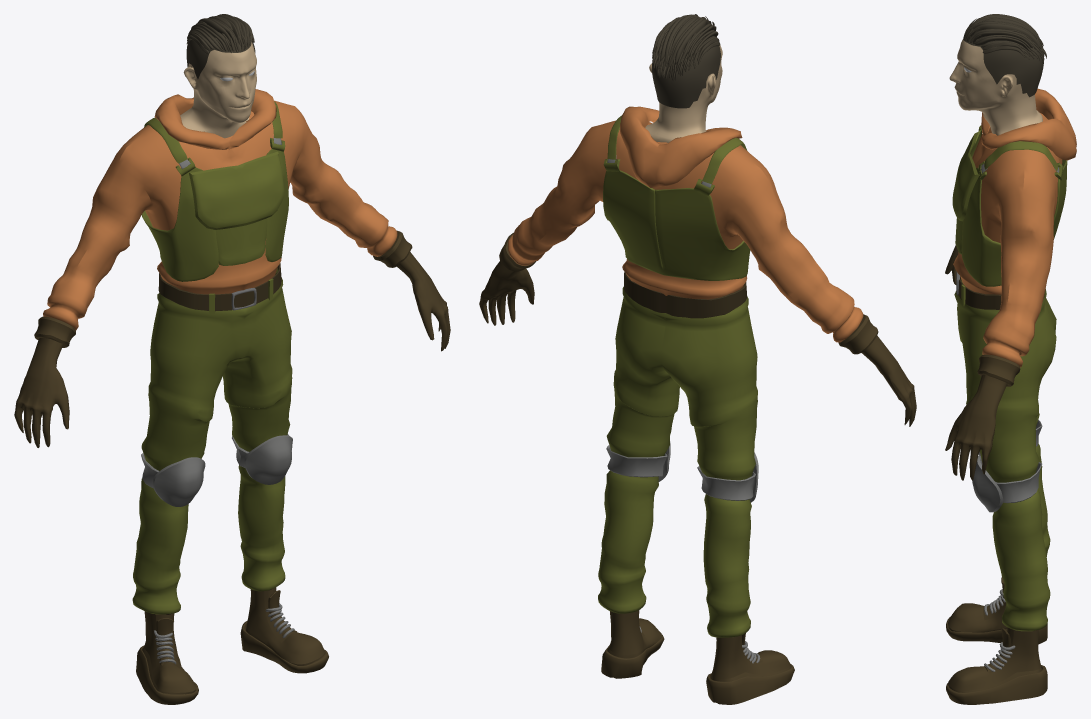
File: main_player_man_containment.fbx
3 renders of one model, left to right at view 1: azimuth 30°, elevation 25°; view 2: azimuth 150°, elevation 25°; view 3: azimuth 270°, elevation 25°, orthographic.
Parts seen in each view (by area): view 1: pants, long_sleeve, gloves, vest, vest_side, head1, shoe_base2, knee_pad, hod, shoe_sole, HAIR_STRANDS, vest_abs (+5 smaller); view 2: pants, long_sleeve, vest_side, gloves, hod, shoe_base2, HAIR_STRANDS, shoe_sole, hair2, belt, knee_strap, head1 (+1 smaller); view 3: pants, long_sleeve, gloves, head1, shoe_base2, vest_side, hod, shoe_sole, HAIR_STRANDS, hair2, vest, knee_pad (+5 smaller).
Part boxes in pixels (x1,y1,x2,y2): pants: (132,268,292,614); long_sleeve: (43,100,397,330); gloves: (14,230,450,447); vest: (189,151,284,229); vest_side: (141,149,288,281); head1: (180,42,256,138); shoe_base2: (142,587,325,694); knee_pad: (152,435,292,506); hod: (154,89,276,149); shoe_sole: (136,620,328,704); HAIR_STRANDS: (186,14,254,53); vest_abs: (215,218,267,265); pants: (598,286,757,637); long_sleeve: (508,120,863,342); vest_side: (603,170,750,280); gloves: (479,232,916,426); hod: (620,106,742,187); shoe_base2: (607,610,791,681); HAIR_STRANDS: (652,14,720,81); shoe_sole: (601,634,794,704); hair2: (652,29,720,108); belt: (624,271,747,318); knee_strap: (606,445,755,500); head1: (645,45,722,142); pants: (954,279,1056,631); long_sleeve: (953,113,1062,367); gloves: (945,245,1020,480); head1: (949,39,1042,135); shoe_base2: (948,602,1042,692); vest_side: (961,129,1067,286); hod: (981,88,1076,160); shoe_sole: (946,616,1047,704); HAIR_STRANDS: (963,14,1046,63); hair2: (963,36,1043,97); vest: (952,132,979,221); knee_pad: (972,452,1003,512).
Bounding box in the file's own units: 131 × 188 × 34.9.
